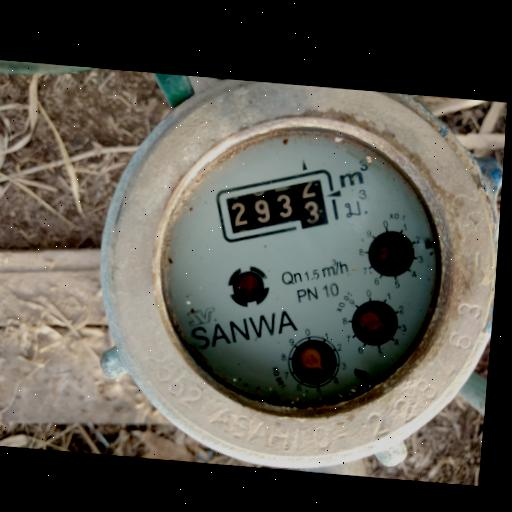2: (291, 178, 332, 231), (223, 193, 255, 234)
3: (267, 183, 304, 228)
9: (242, 187, 280, 232)
border_water_meter_number: (210, 159, 343, 253)
